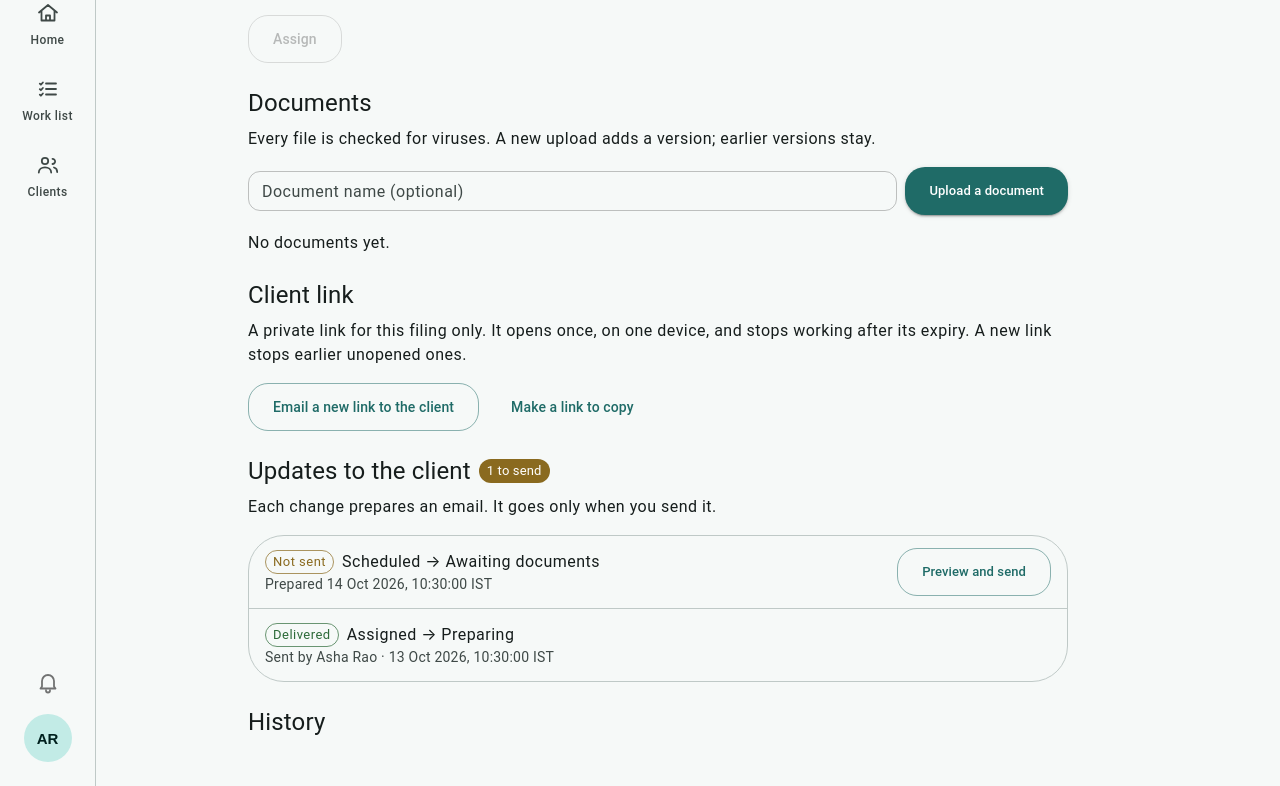
Updates to the client › shows waiting drafts, previews one, and sends it only on the click
The image size is (1280, 786).
(page scrolled)
Check: the element with test id "drafts-badge" reads "1 to send", box [487,463,542,478]
Check: the list named "Updates to the client" shows "Scheduled → Awaiting documents", box [248,535,1068,682]
Click the button "Preview and send": (974, 572) [897,548,1051,596]
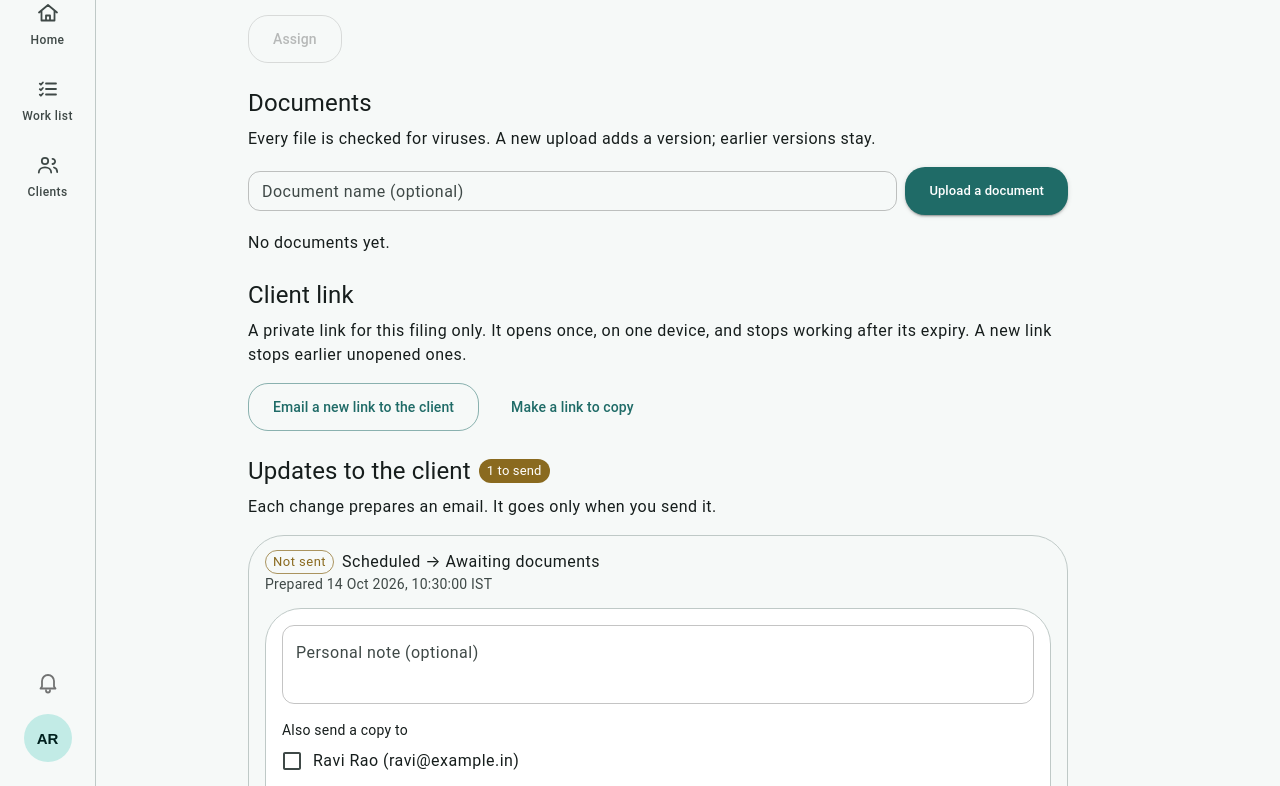
In the text box labelled "Personal note (optional)": (658, 664) [296,642,1020,688], type "Please send the sales register."
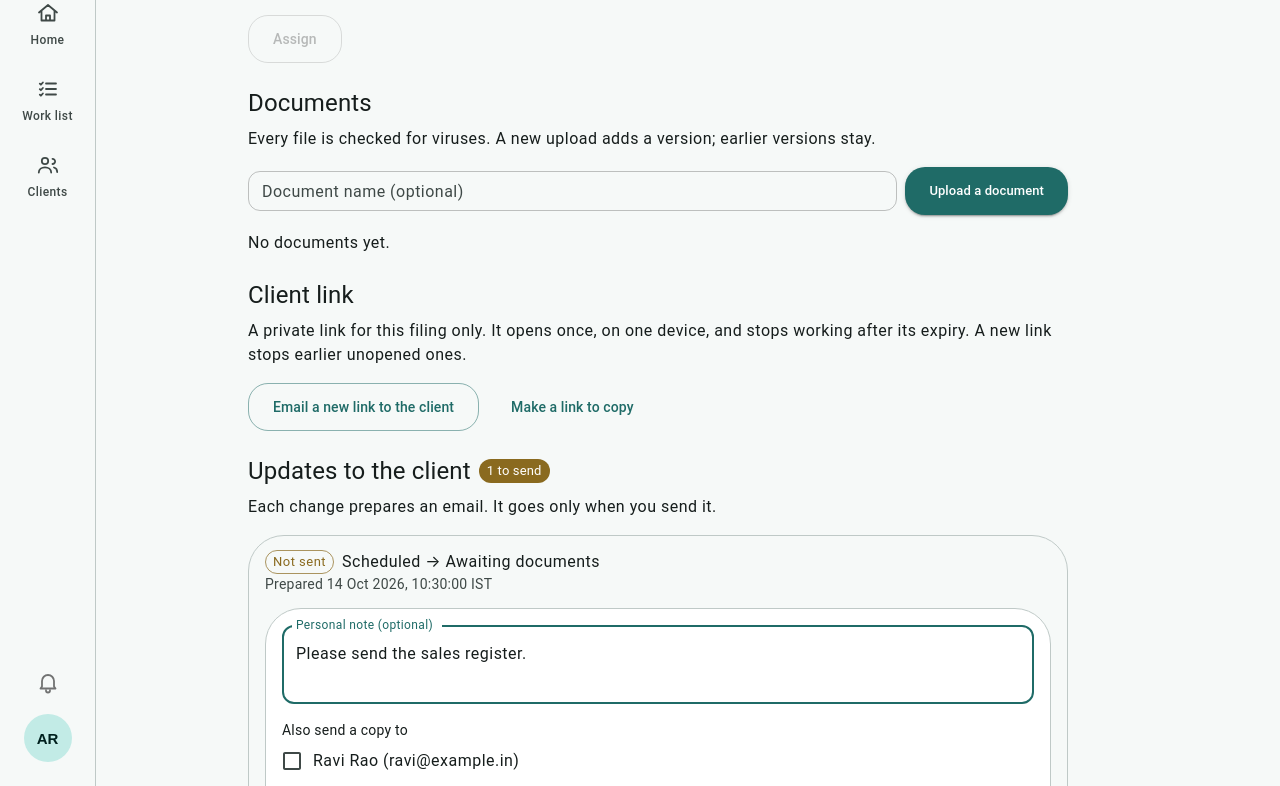
Click the checkbox labelled "Ravi Rao (ravi@example.in)": (400, 761) [280,749,519,773]
(page scrolled)
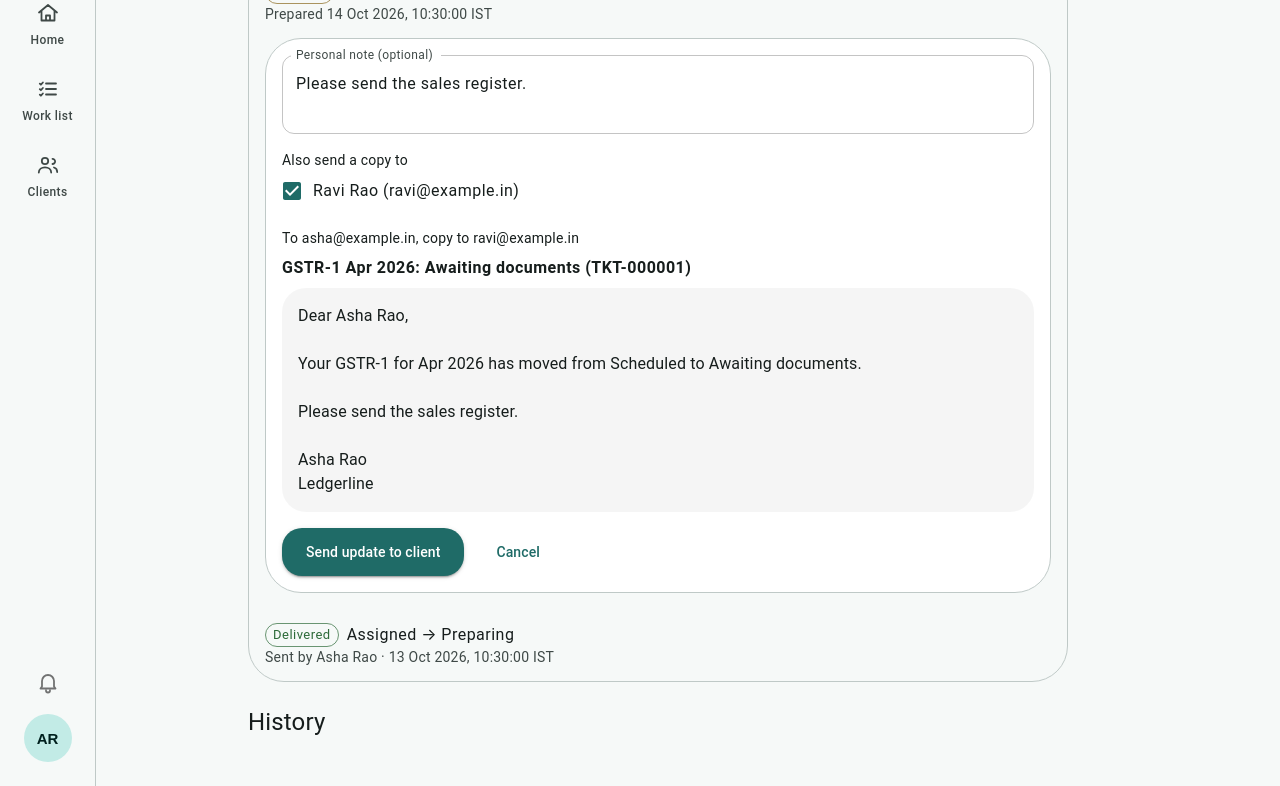
Check: the text "To asha@example.in, copy to ravi@example.in" is shown, box [282,230,579,246]
Click the button "Send update to client": (373, 552) [282,528,464,576]
(page scrolled)
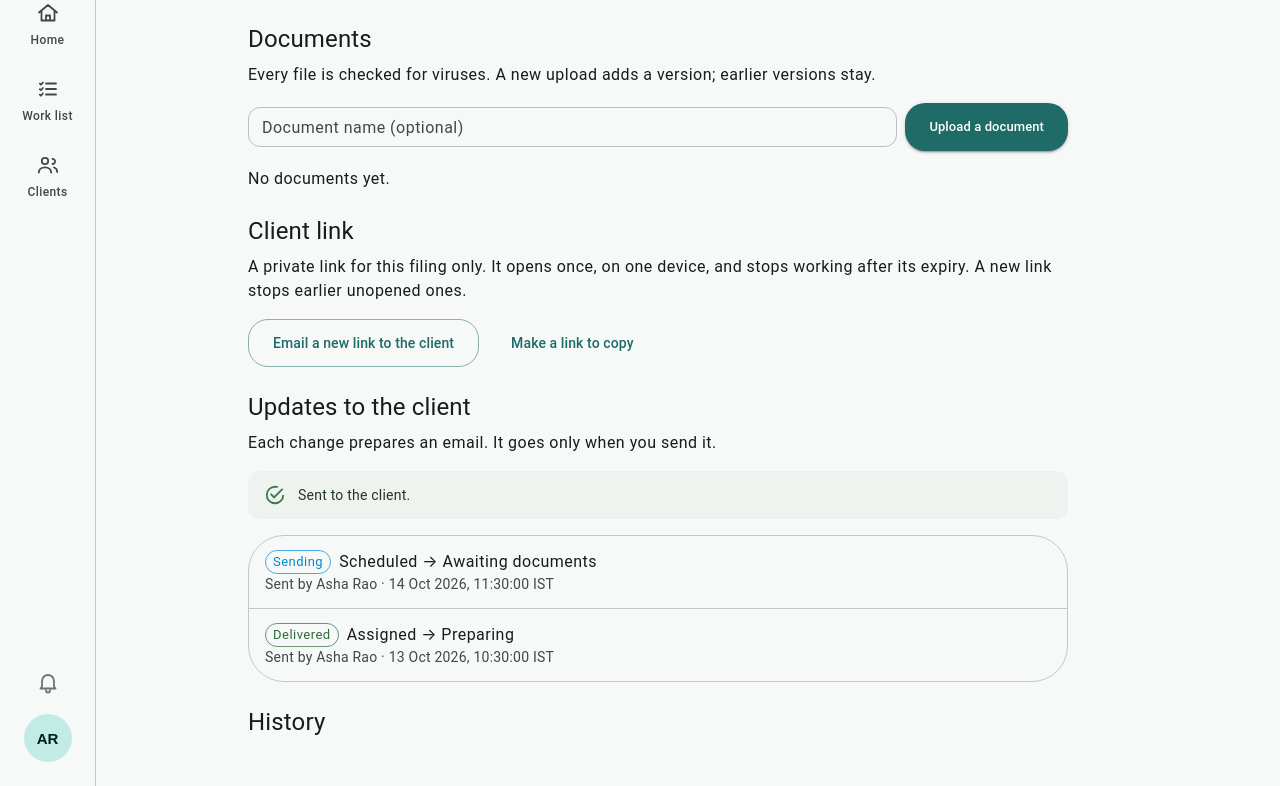
Check: the text "Sent to the client." is shown, box [298,487,410,503]
